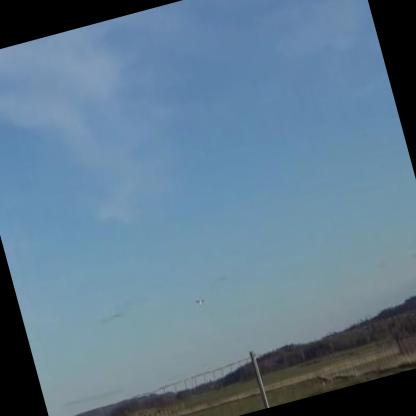plane: (193, 296, 209, 307)
